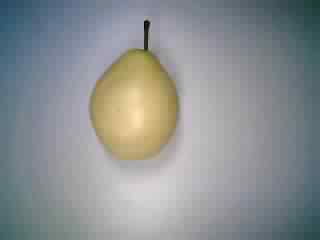pear: (78, 15, 190, 167)
